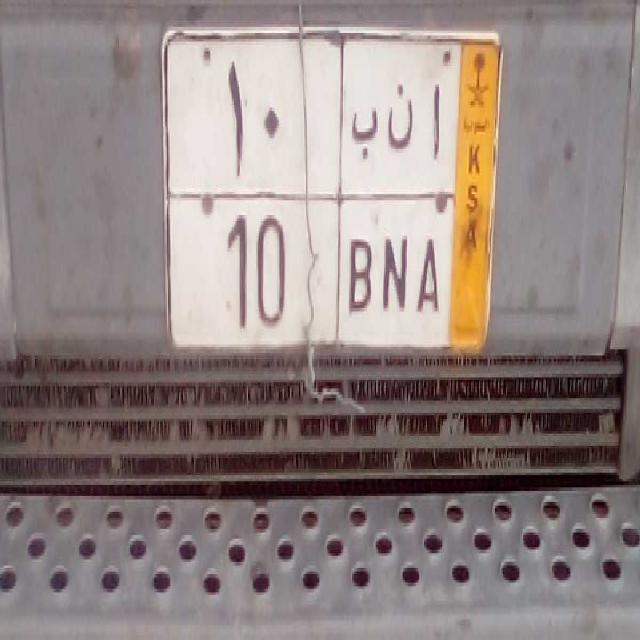license_plate: (166, 193, 452, 344)
